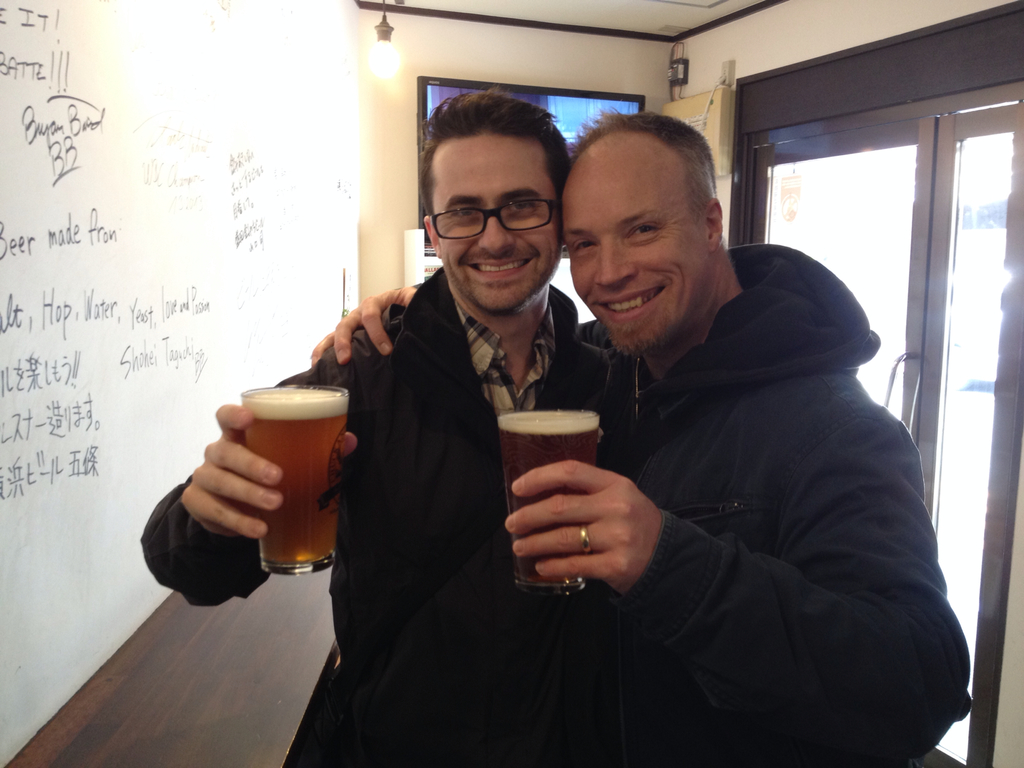Beer: (240, 385, 348, 571), (494, 407, 598, 598)
